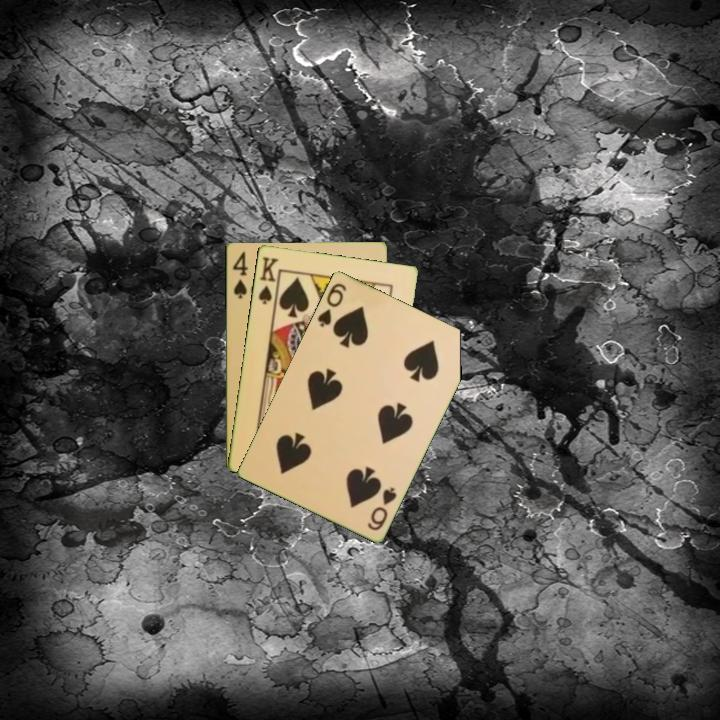4s: (229, 247, 250, 301)
6s: (364, 483, 400, 533), (314, 279, 349, 330)
Ks: (254, 253, 282, 309)
